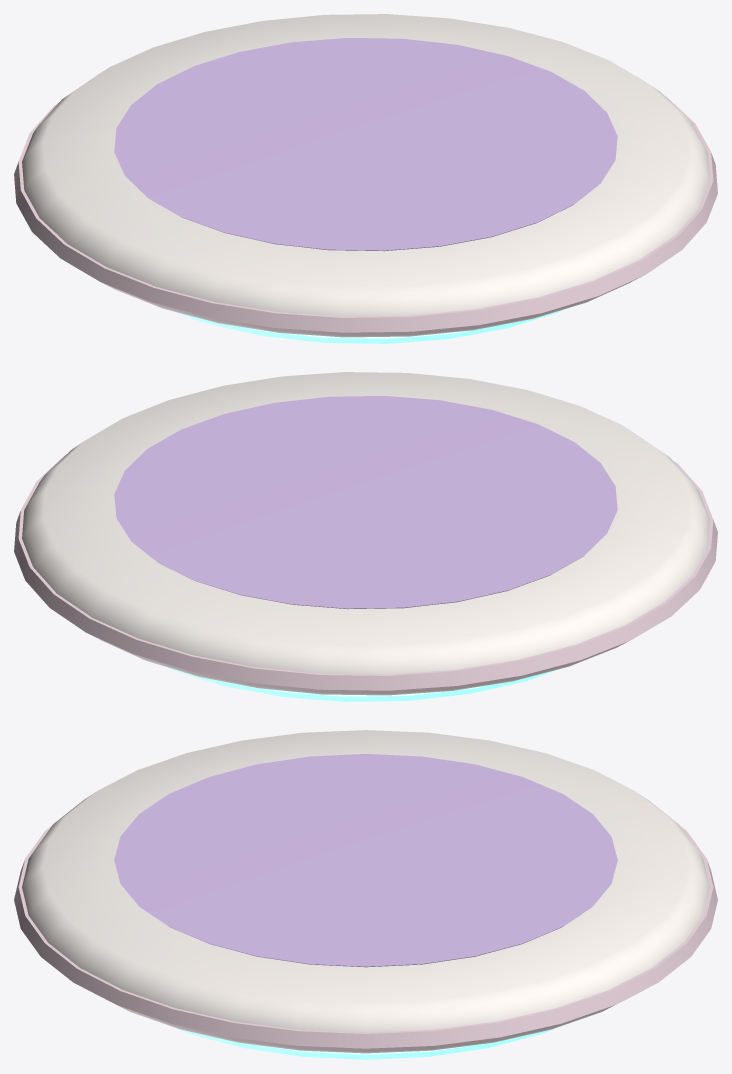
Rendered from floating_platform.glb.
3 views of the same model, one above another, from view 1: azimuth 30°, elevation 25°; view 2: azimuth 150°, elevation 25°; view 3: azimuth 270°, elevation 25° (orthographic).
Visible parts, largest first — view 1: floating_platform; view 2: floating_platform; view 3: floating_platform.
Part boxes in pixels (x1=…): floating_platform: x1=14, y1=14, x2=717, y2=343; floating_platform: x1=14, y1=372, x2=717, y2=701; floating_platform: x1=14, y1=730, x2=717, y2=1059.
Size of the model in its own units: 3.35 by 0.76 by 3.35.
